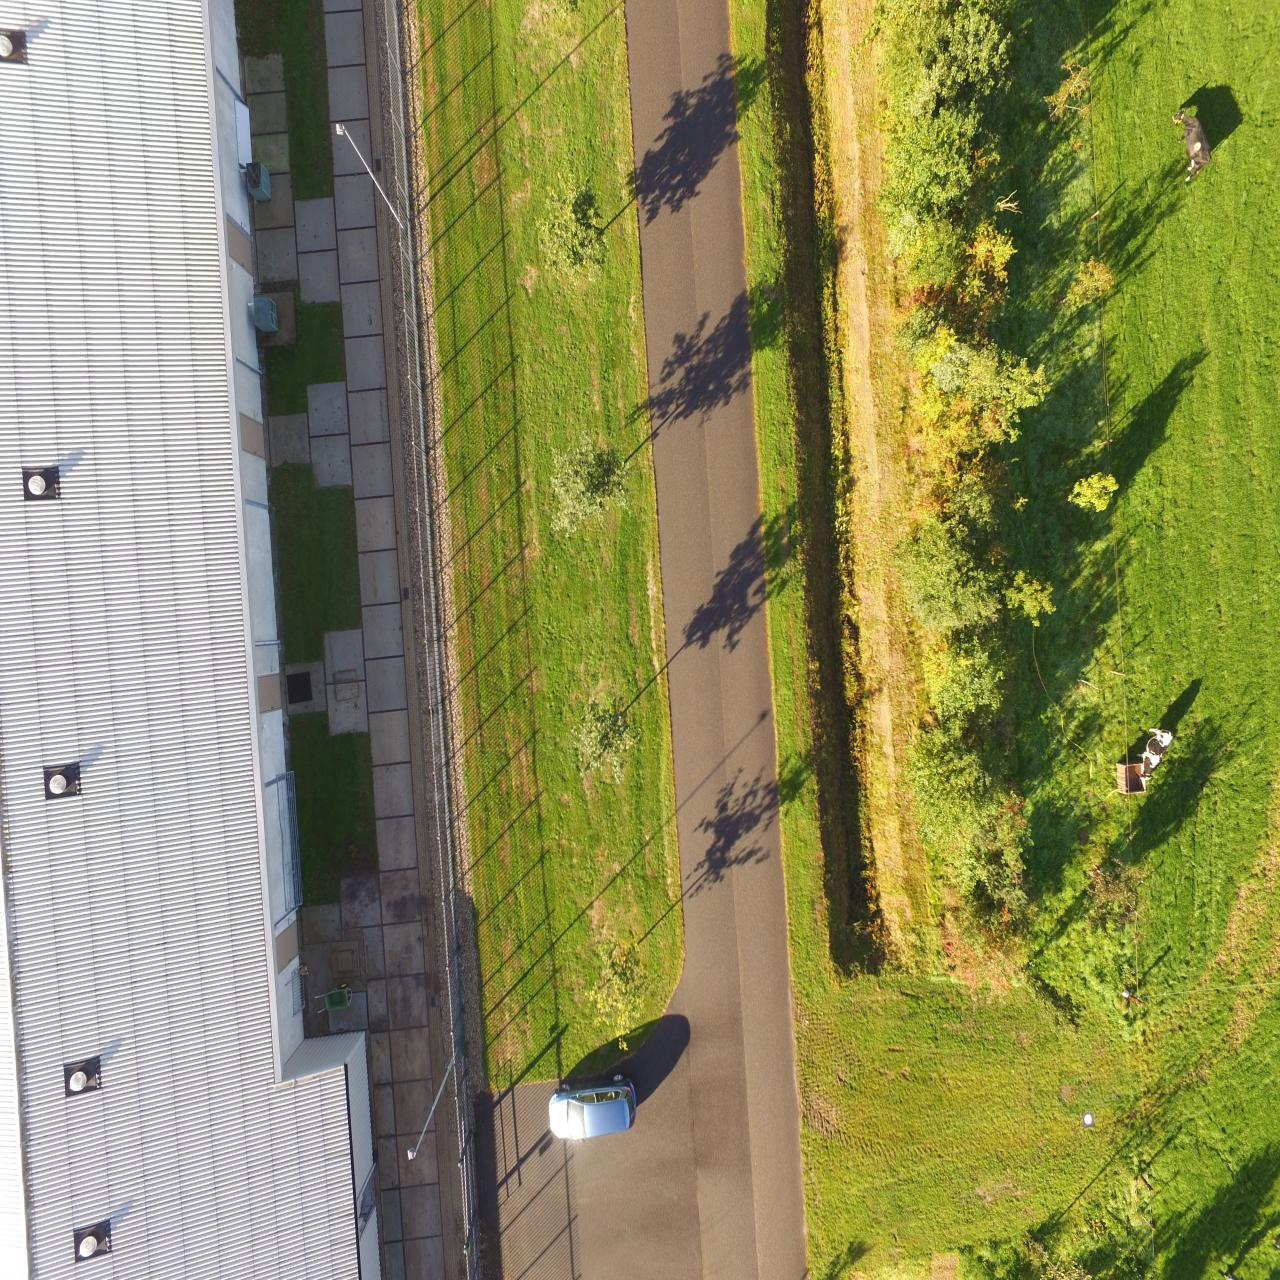cow: (1171, 109, 1211, 183), (1137, 729, 1172, 782)
